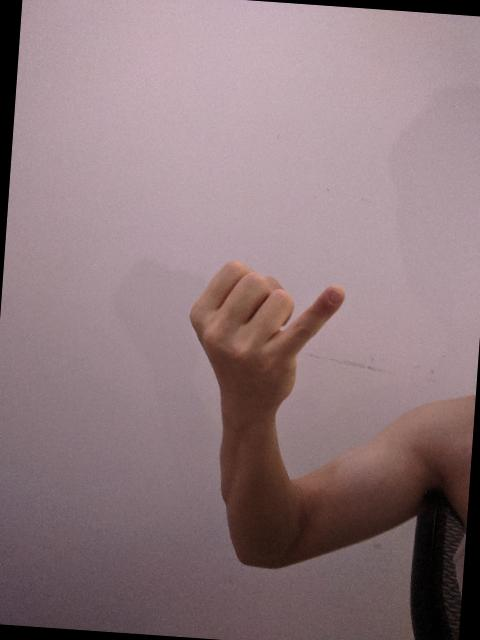J: (177, 250, 355, 422)
